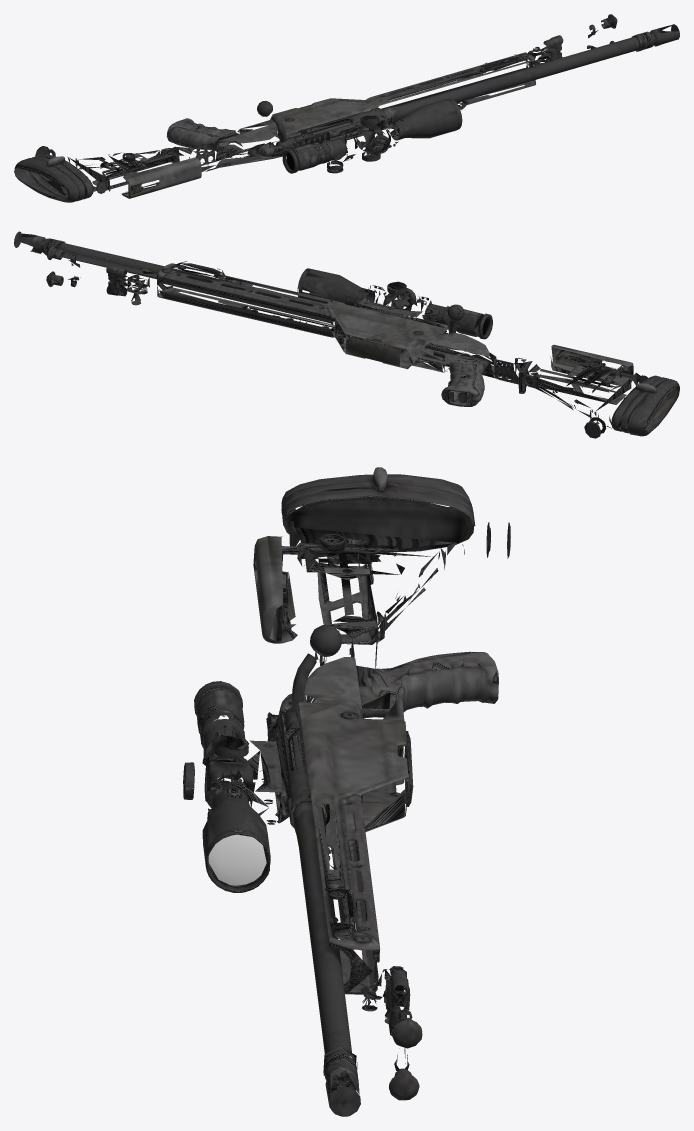
The model's file is w_scout.glb.
3 renders of one model, top to bottom at view 1: azimuth 30°, elevation 25°; view 2: azimuth 150°, elevation 25°; view 3: azimuth 270°, elevation 25°, orthographic. The views are drawn at different scales.
Parts seen in each view (by area): view 1: w_scout; view 2: w_scout; view 3: w_scout.
Boxes of the visible parts, x1,y1,x2,y2 form: w_scout: (14,14,679,202); w_scout: (14,231,679,438); w_scout: (183,467,510,1116).
Size of the model in its own units: 1.76 by 0.1629 by 0.3938.
2 materials, 2 textured.
